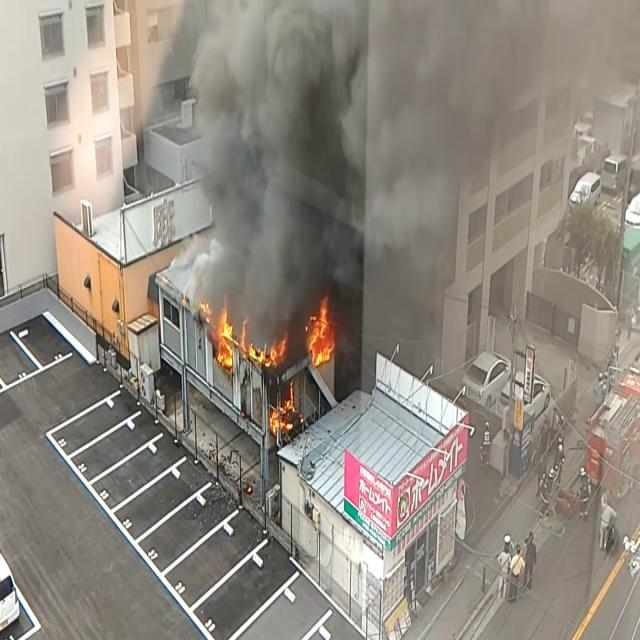Fire: (213, 310, 283, 373), (303, 293, 339, 373), (268, 376, 298, 438)
Smoke: (172, 0, 531, 355), (166, 0, 368, 327)
